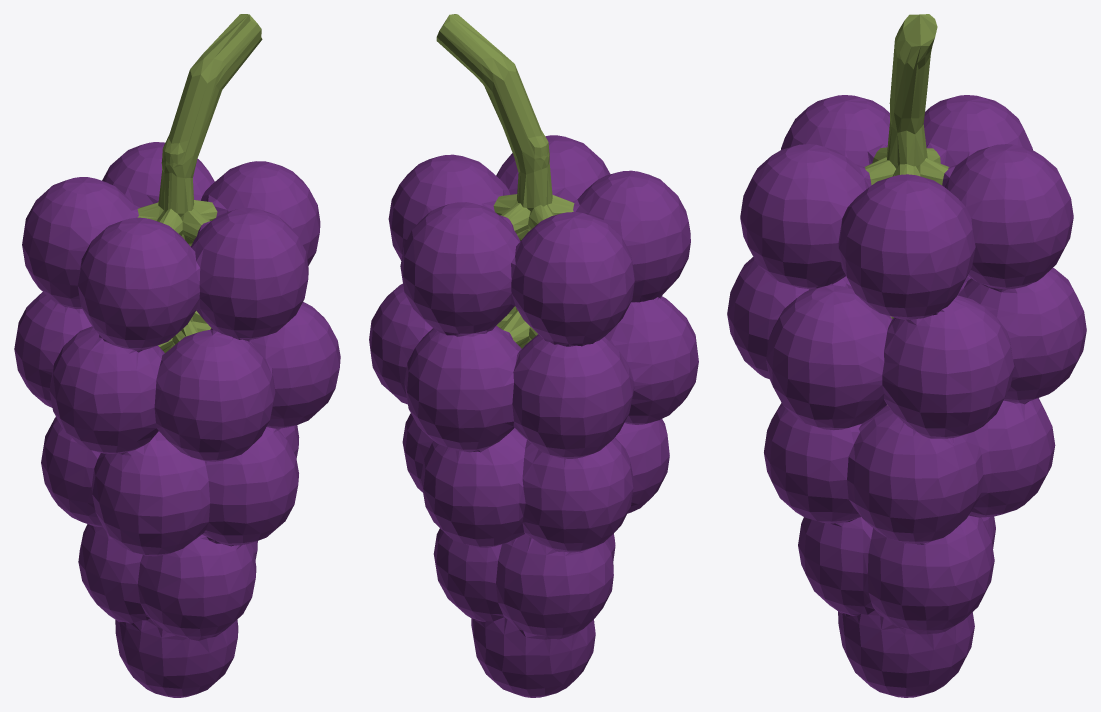
Rendered from NEW_RECOVERY_003_LOD0.glb.
The picture shows the model from 3 angles, left to right: view 1: azimuth 30°, elevation 25°; view 2: azimuth 150°, elevation 25°; view 3: azimuth 270°, elevation 25°; orthographic projection. The views are drawn at different scales.
Parts seen in each view (by area): view 1: NEW_RECOVERY_003_LOD0; view 2: NEW_RECOVERY_003_LOD0; view 3: NEW_RECOVERY_003_LOD0.
Boxes of the visible parts, x1=… form: NEW_RECOVERY_003_LOD0: x1=14, y1=14, x2=340, y2=697; NEW_RECOVERY_003_LOD0: x1=369, y1=14, x2=698, y2=697; NEW_RECOVERY_003_LOD0: x1=727, y1=14, x2=1086, y2=697.
Bounding box in the file's own units: 0.1446 × 0.3281 × 0.1488.
